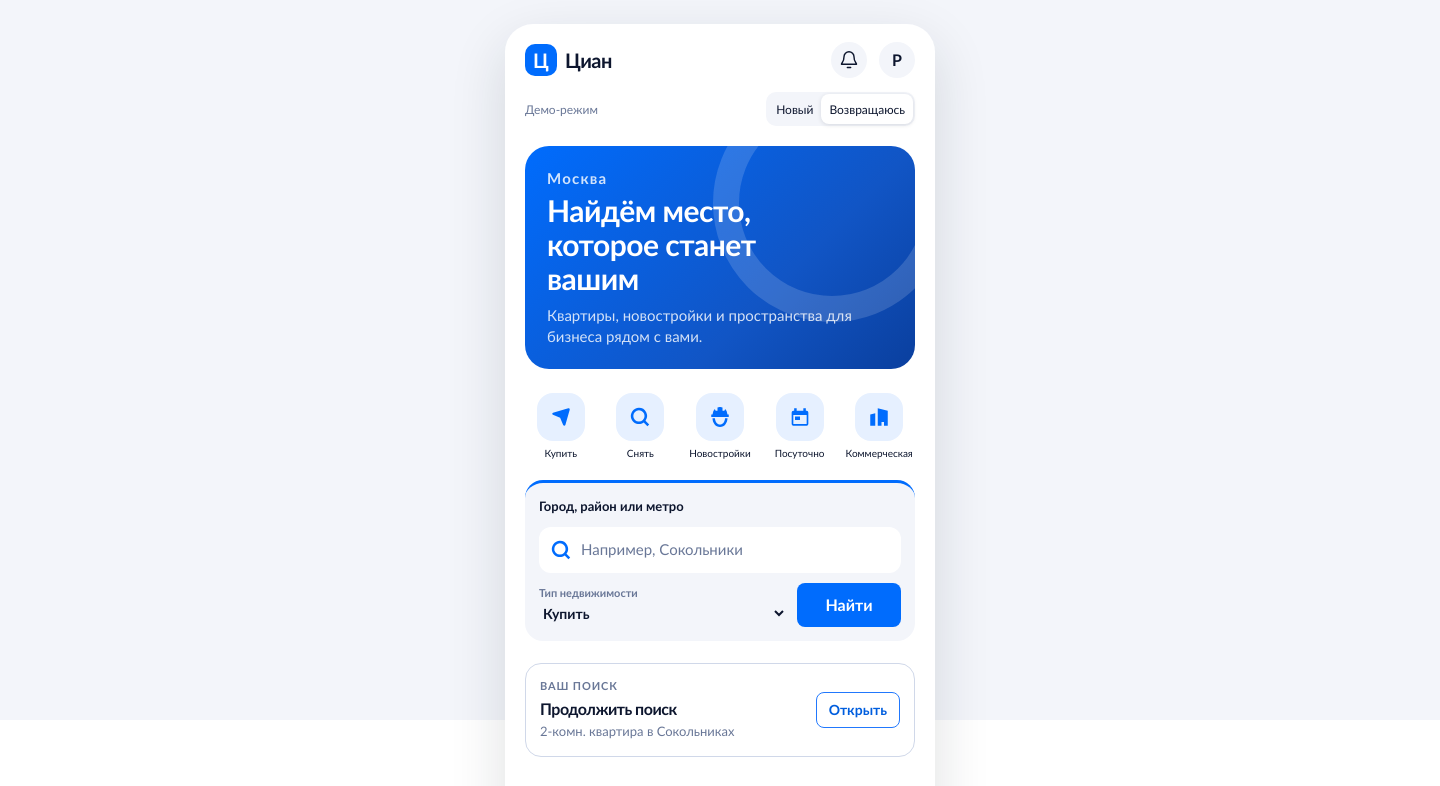
Test: mobile home prototype › switches between new and returning user states
Expected: the heading "Продолжить поиск" is shown, [540,697,677,720]
Click the button "Новый" at [795, 109], box [768,94,821,124]
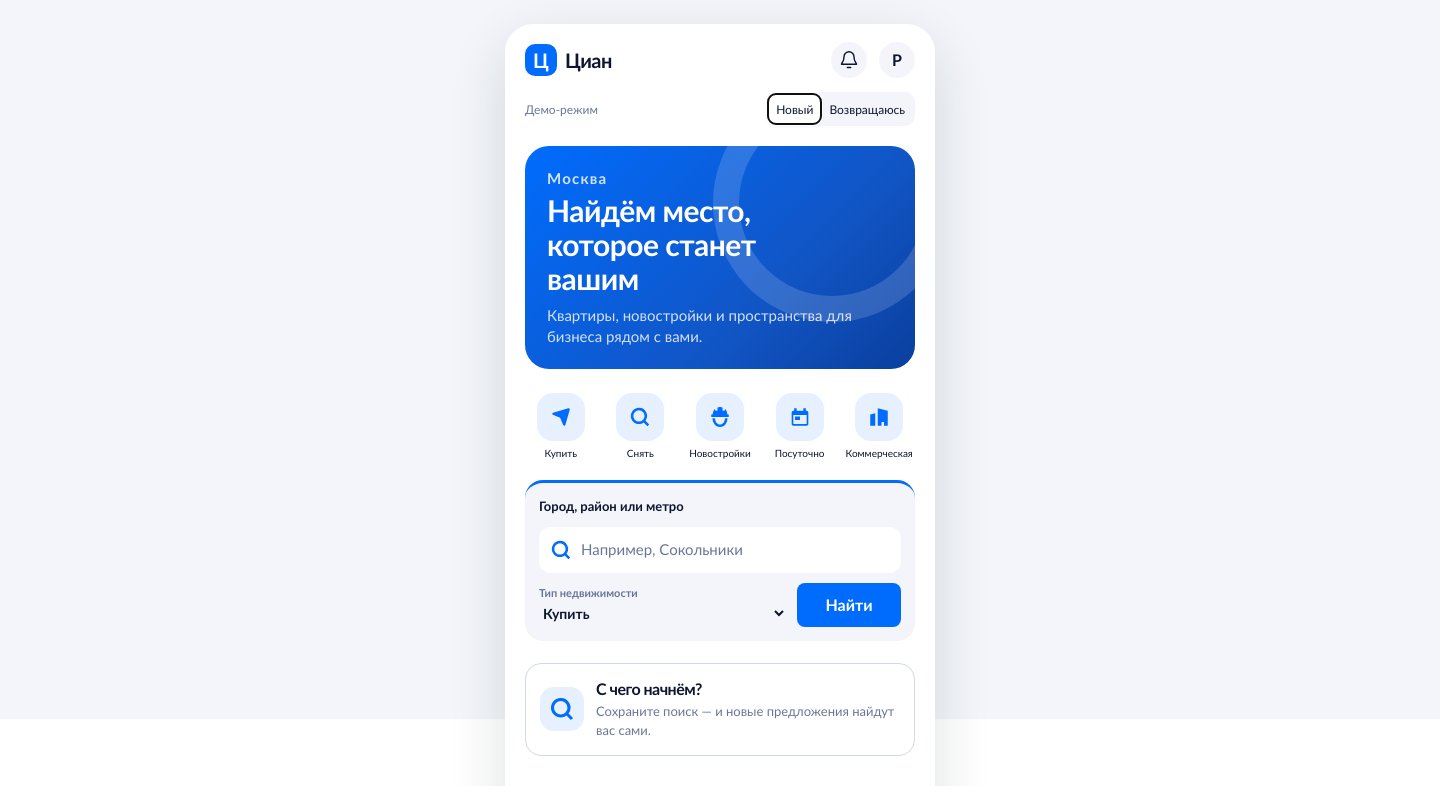
Expected: the heading "С чего начнём?" is shown, [596,676,702,700]
